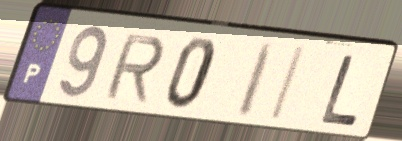0: (161, 35, 218, 113)
9: (56, 23, 111, 103)
I: (233, 40, 280, 122), (266, 44, 310, 125)
L: (317, 52, 363, 129)
R: (100, 31, 169, 105)
